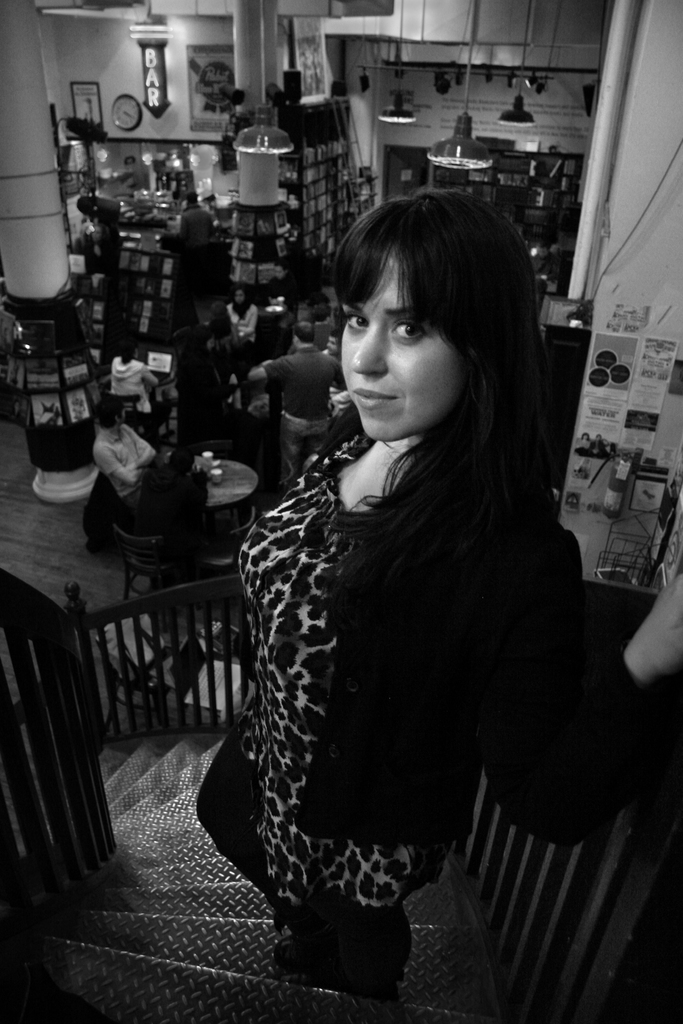Human-face: (336, 252, 465, 442), (326, 330, 339, 355), (230, 289, 247, 304), (272, 262, 283, 278), (120, 408, 127, 430)
